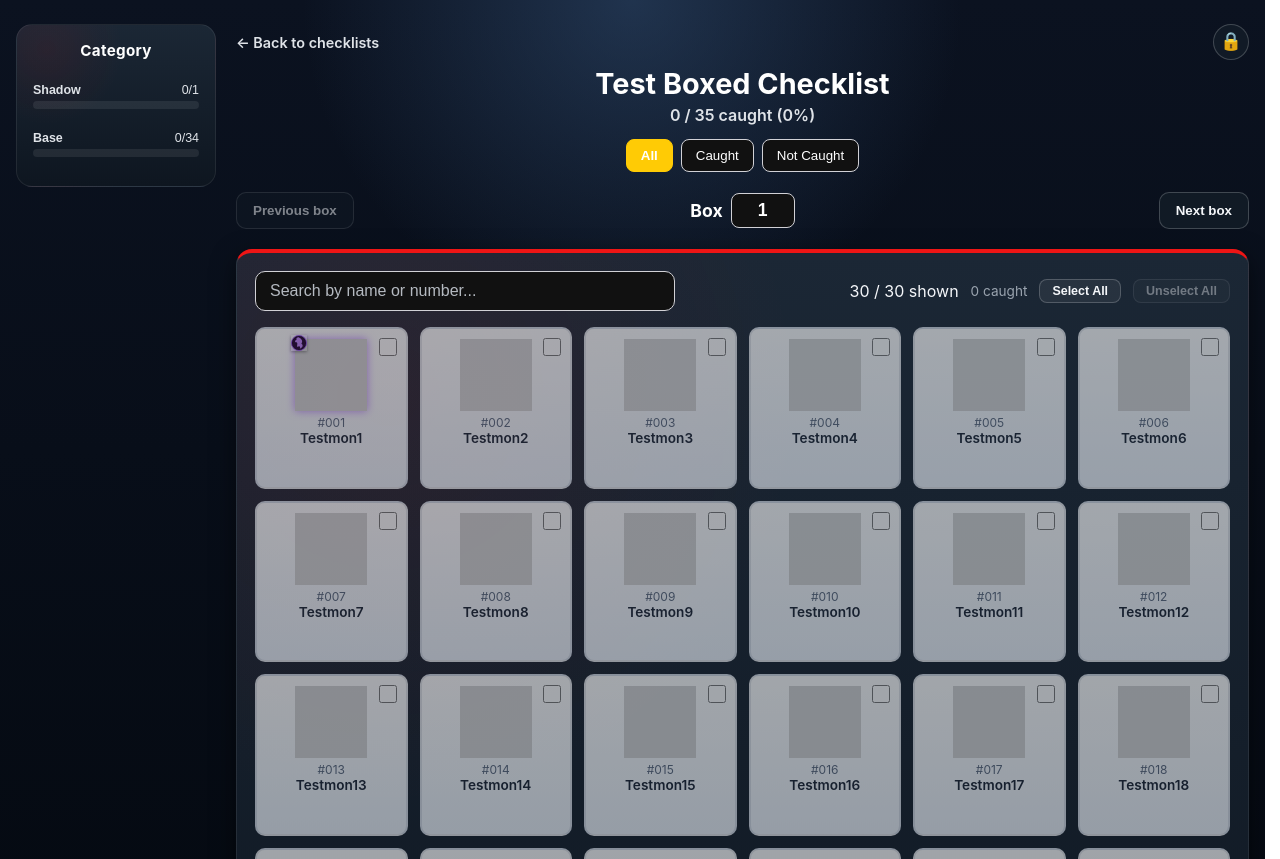
Test: ChecklistPage - the group sidebar › jumps to the box a group starts in when its row is clicked
Click the button "Next box".
click(1204, 210)  # box [1159,192,1249,229]
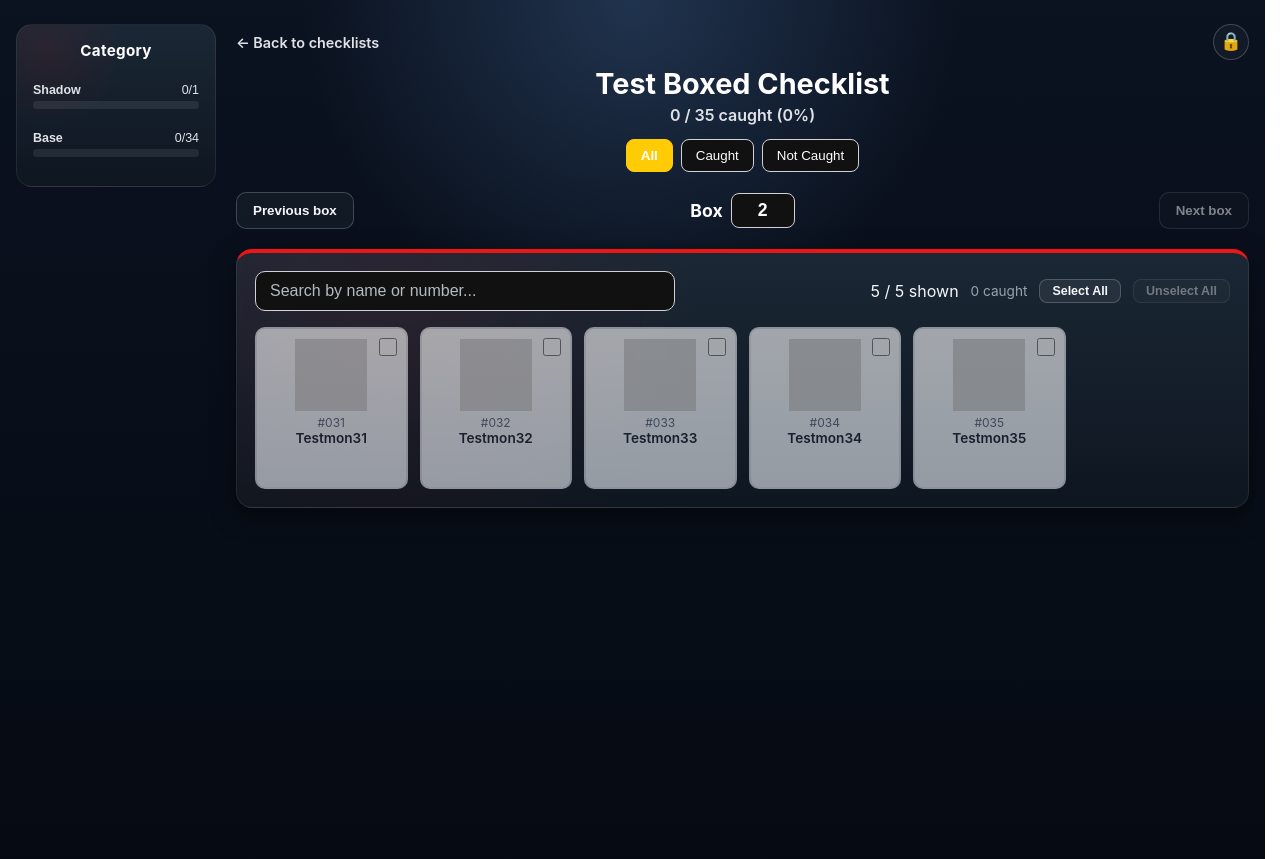
Expected: the number field holds "2", [731,193,795,228]
Click the text "Shadow".
click(57, 90)  # box [33,83,81,97]
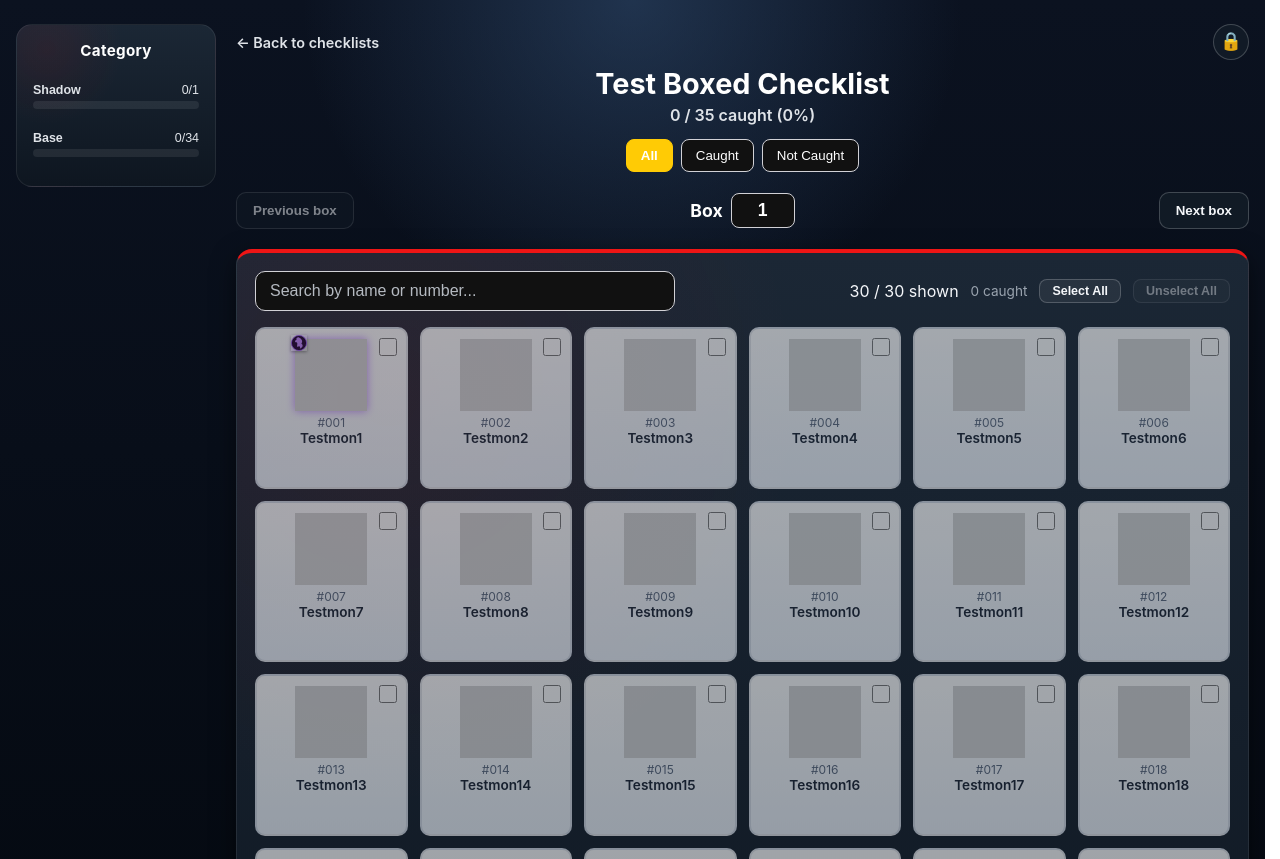
Expected: the number field holds "1", [731,193,795,228]
